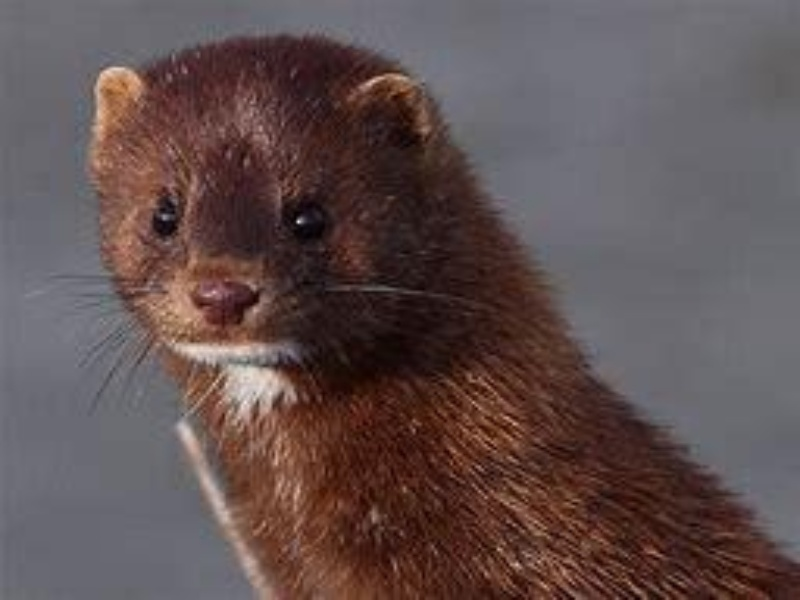minkish: (84, 29, 792, 594)
